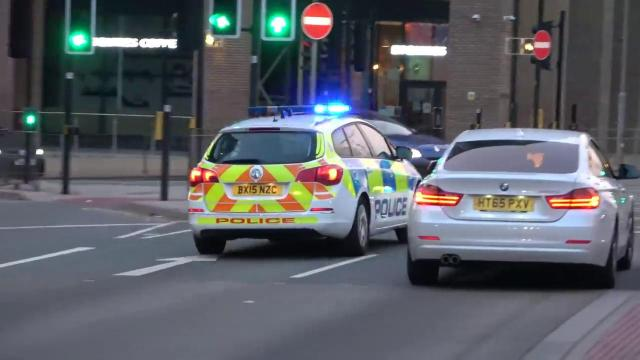police: (168, 110, 423, 248)
